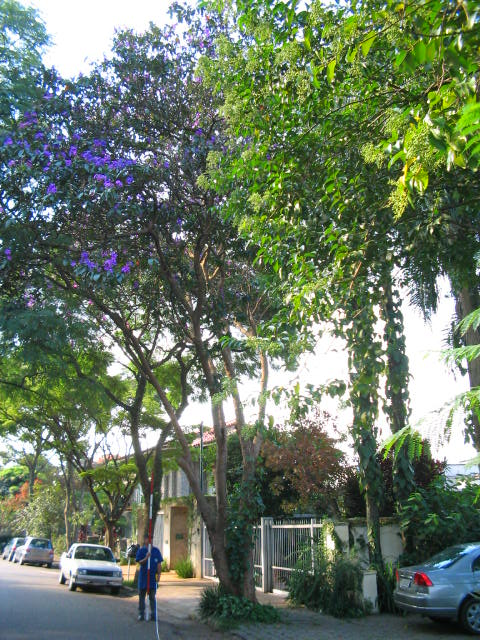crown: (3, 5, 304, 347)
stem: (196, 530, 272, 618)
stick: (142, 472, 158, 620)
tree: (2, 3, 307, 620)
